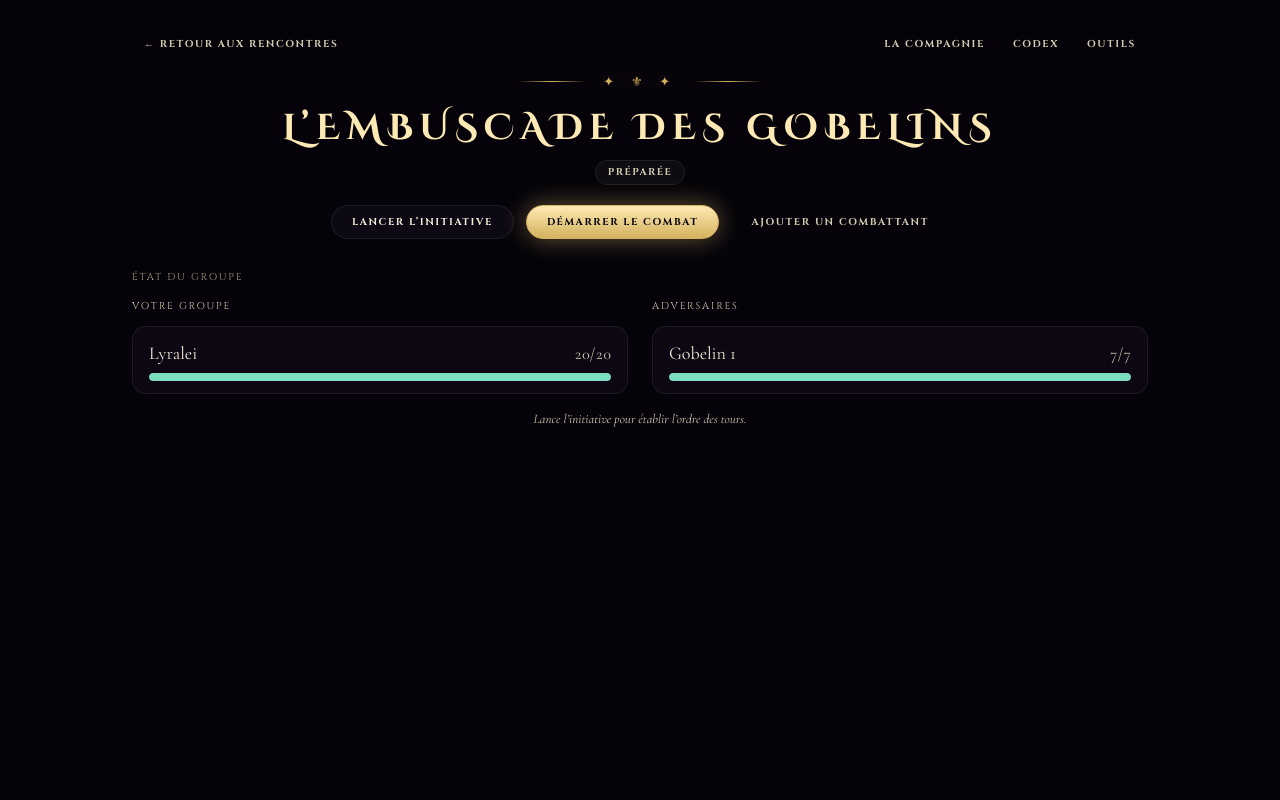
Scenario: <EncounterScreen> — Codex en superposition (E6) › le bouton Codex ouvre le Codex par-dessus le tracker, sur les États
Expected: the dialog "Le Codex" is not shown
Click the button "Codex" at (1036, 44), box left=1001, top=32, right=1071, bottom=56
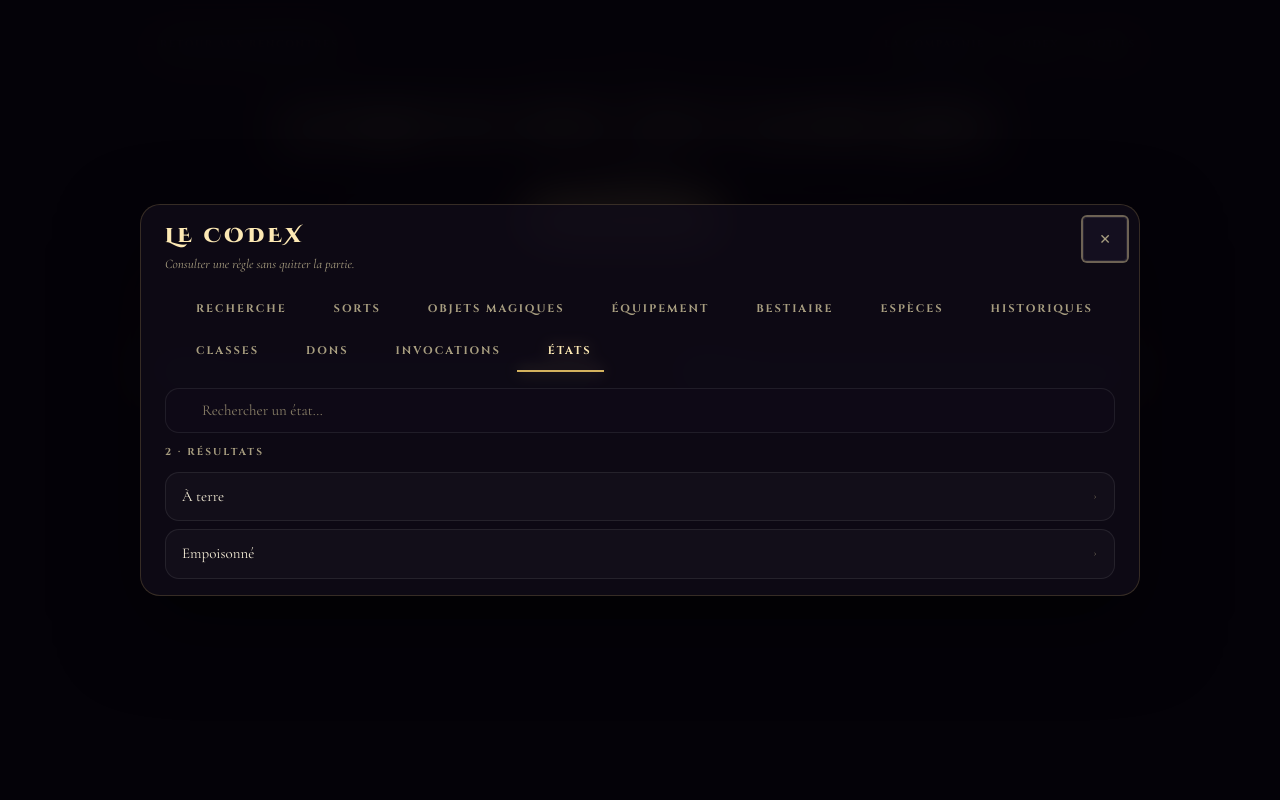
Now the dialog "Le Codex" is shown
